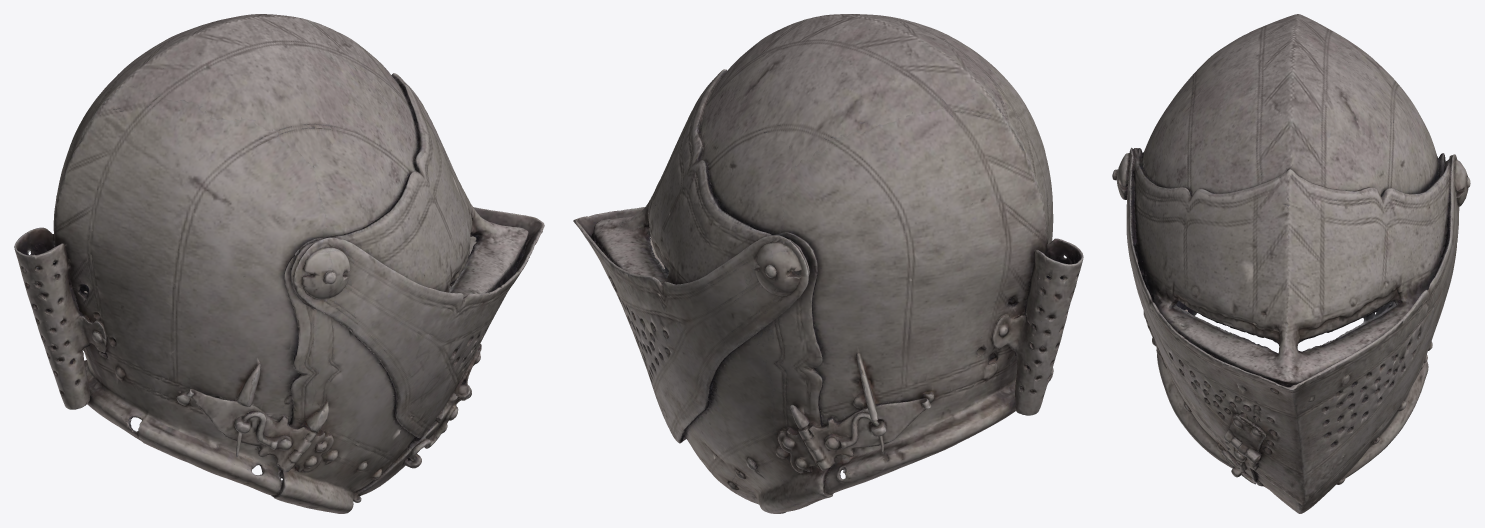
The model's file is helmet.glb.
The picture shows the model from 3 angles, left to right: view 1: azimuth 30°, elevation 25°; view 2: azimuth 150°, elevation 25°; view 3: azimuth 270°, elevation 25°; orthographic projection. The views are drawn at different scales.
Parts seen in each view (by area): view 1: Object_2; view 2: Object_2; view 3: Object_2.
Part boxes in pixels (left/top/right/bottom): Object_2: left=14, top=14, right=544, bottom=513; Object_2: left=573, top=14, right=1083, bottom=513; Object_2: left=1112, top=14, right=1470, bottom=513.
Size of the model in its own units: 1.09 by 1.02 by 0.7728.
Materials: 1 (1 with a texture image).
